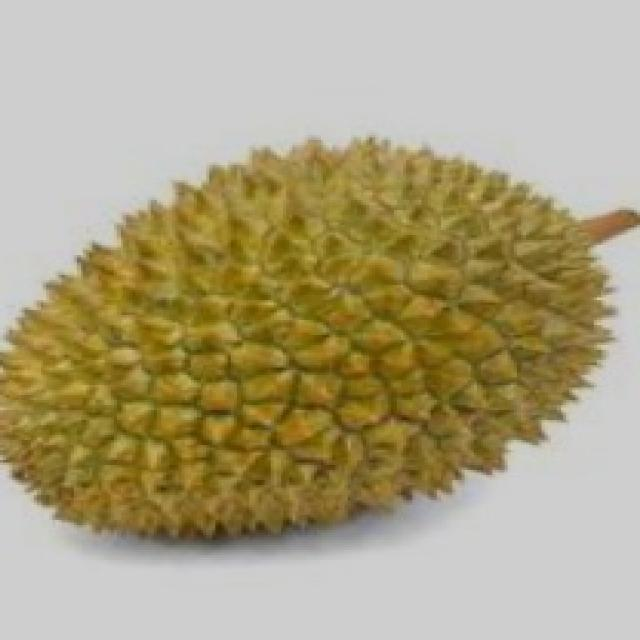fruit: (277, 168, 640, 582), (0, 195, 351, 597)
